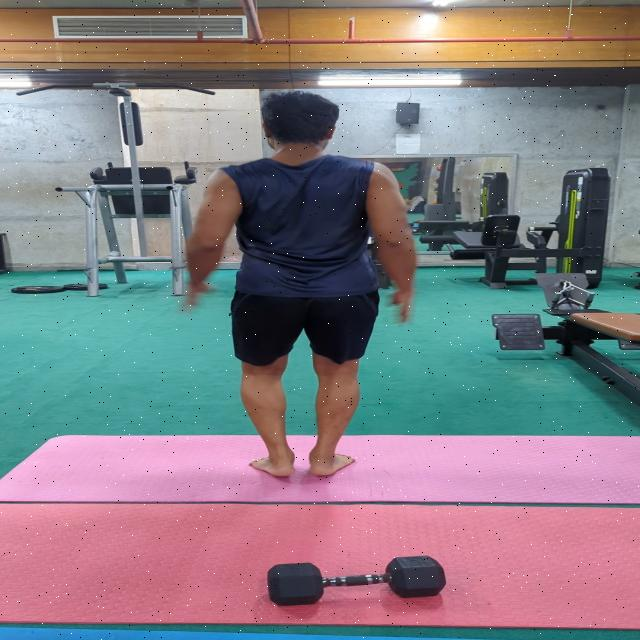Normal_JumpingJacks: (162, 83, 476, 487)
